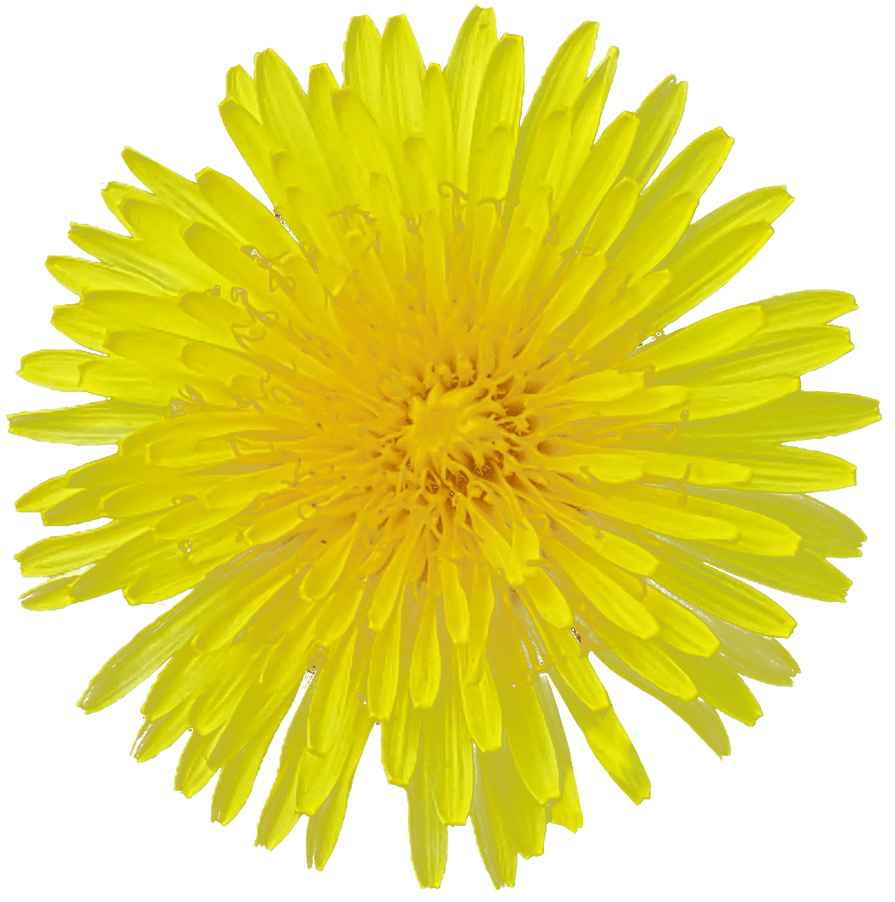dandelion: (12, 58, 887, 889)
